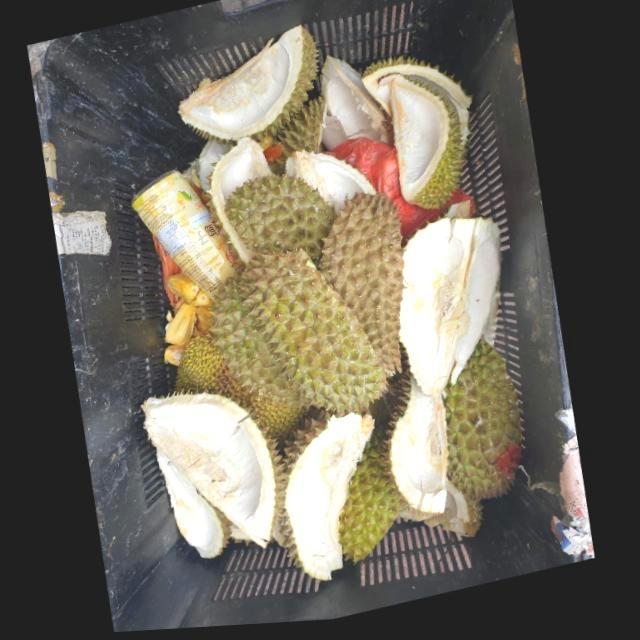aluminum: (133, 170, 243, 298)
